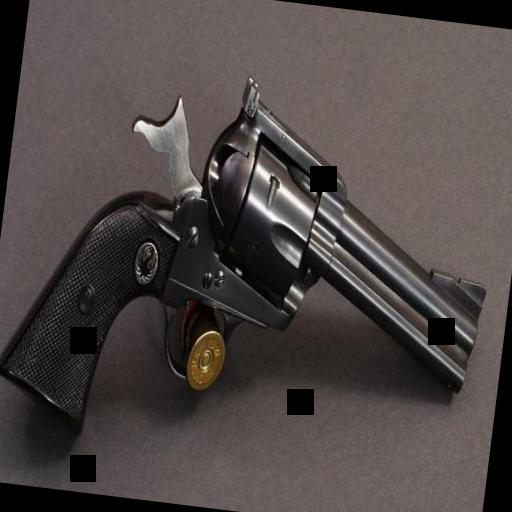Handgun: (0, 40, 511, 483)
